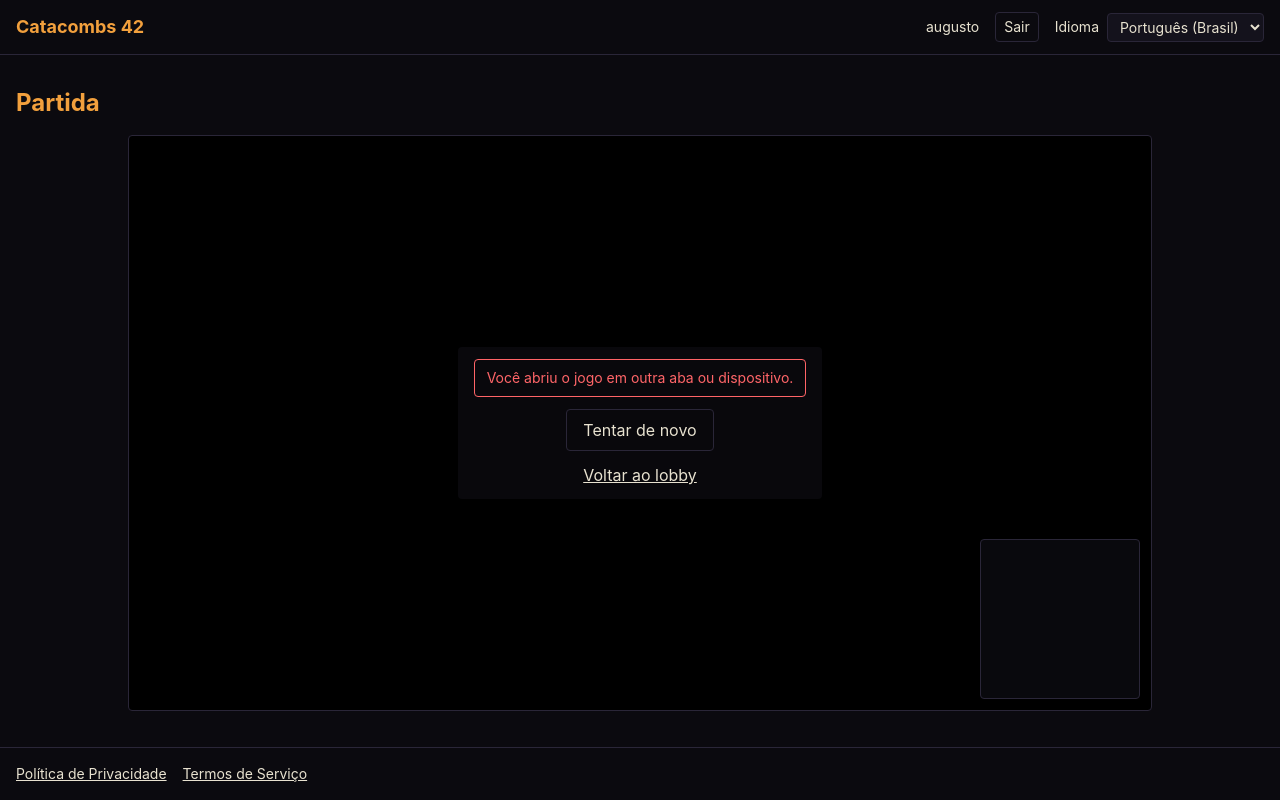
status da partida › Tentar de novo remonta o jogo
What coordinates should you click on to do the following:
click the button "Tentar de novo"
I would click on:
 (640, 430)
Its box is [566, 409, 714, 451].
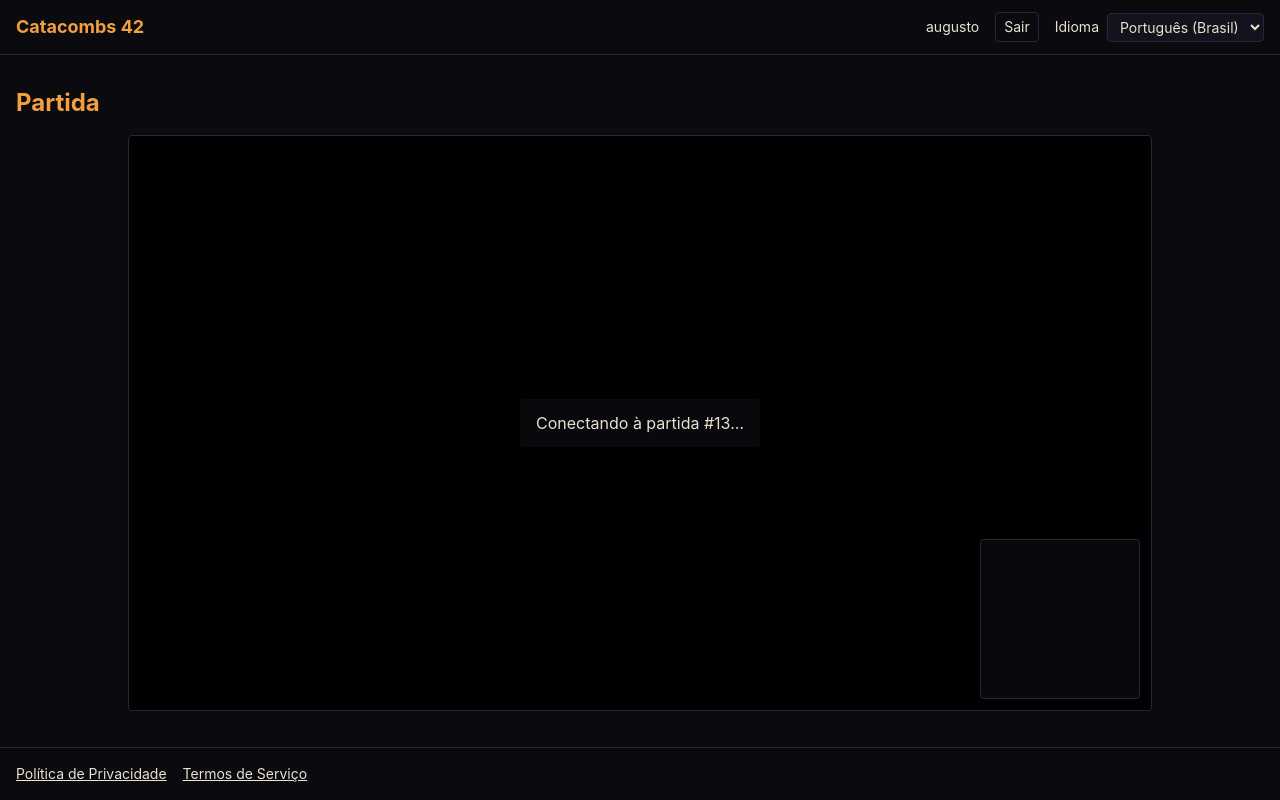
Check: the text "Conectando à partida #13…" is shown, box [536, 411, 744, 435]
